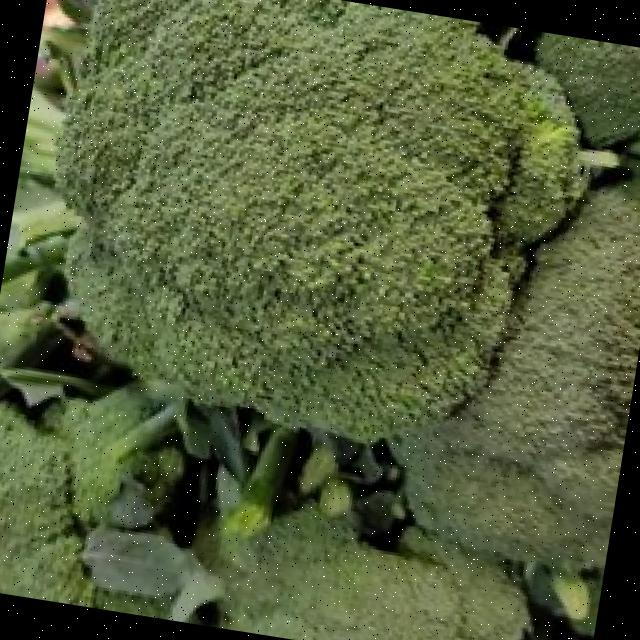Broccoli: (57, 0, 586, 439), (57, 0, 586, 439), (392, 179, 640, 567), (392, 181, 640, 567), (195, 506, 530, 640), (196, 507, 530, 640), (0, 405, 108, 608), (0, 405, 107, 608), (539, 31, 640, 143), (544, 32, 640, 137), (103, 593, 165, 619)
